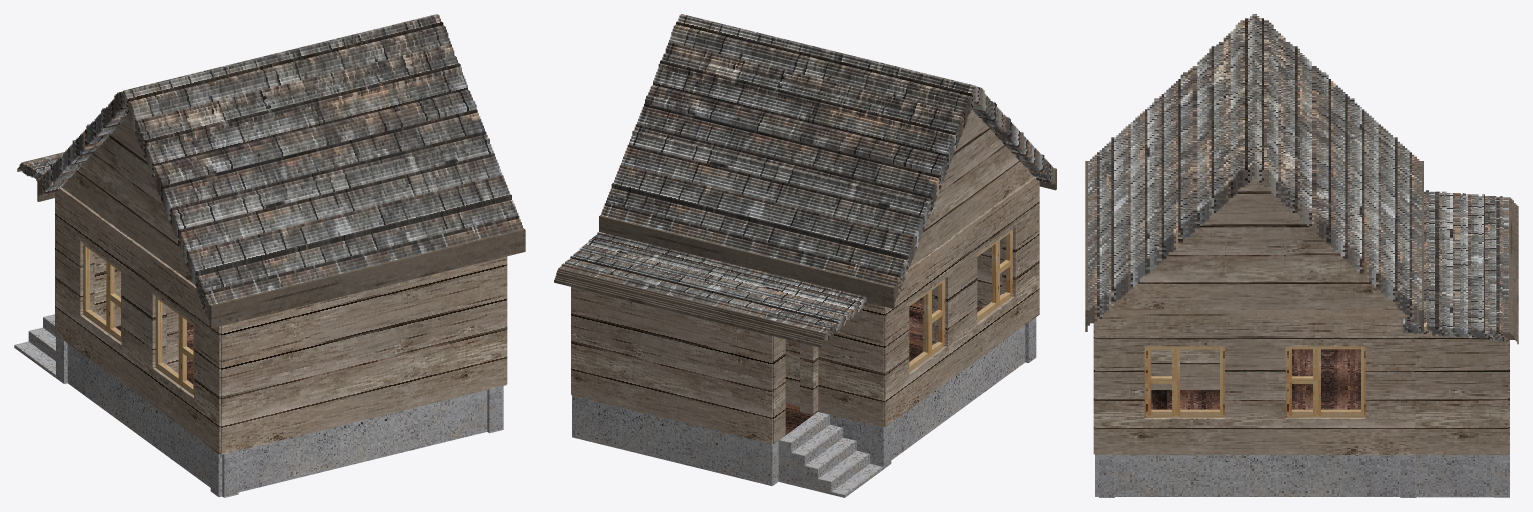
File: voxel_country_house.glb
3 renders of one model, left to right at view 1: azimuth 30°, elevation 25°; view 2: azimuth 150°, elevation 25°; view 3: azimuth 270°, elevation 25°, orthographic. The views are drawn at different scales.
Parts seen in each view (by area): view 1: -_129_House1Crovl91_0, doski1, Matrix002_House1WallWindows_0, Matrix_005_House1Funtdament_0, Matrix_2_House1Crov1_0, Matrix_4_House1Funtdament_0, -_128_House1Crovl91_0, Matrix_010_House1Window_0, Matrix_9_House1Window_0, Matrix_17_House1Lestnica_0, doski1_1, Matrix_006_House1Funtdament_0 (+2 smaller); view 2: -_128_House1Crovl91_0, Matrix_14_House1Wall3_0, Matrix002_House1WallWindows_0, 129_House1Crovl92_0, Fundament1, doski1_1, Matrix_2_House1Crov1_0, Matrix_17_House1Lestnica_0, Matrix_4_House1Funtdament_0, -_129_House1Crovl91_0, _3_House1WallDoor2_0, Matrix_5_House1Funtdament2_0 (+4 smaller); view 3: Matrix001_House1WallWindows_0, -_129_House1Crovl91_0, -_128_House1Crovl91_0, Matrix_013_House1Crov1_0, 129_House1Crovl92_0, Matrix_006_House1Funtdament_0, _1_House1Wall2_0, Matrix_8_House1Pol_0, Fundament2, Matrix_012_House1Window_0, Matrix_011_House1Window_0, _5_House1Wall4_material_0 (+3 smaller).
Boxes of the visible parts, x1,y1,x2,y2 form: -_129_House1Crovl91_0: (124,15,525,328); doski1: (221,256,506,454); Matrix002_House1WallWindows_0: (55,187,220,454); Matrix_005_House1Funtdament_0: (210,390,487,497); Matrix_2_House1Crov1_0: (61,116,195,284); Matrix_4_House1Funtdament_0: (67,344,238,497); -_128_House1Crovl91_0: (37,14,438,201); Matrix_010_House1Window_0: (155,296,193,395); Matrix_9_House1Window_0: (83,243,121,342); Matrix_17_House1Lestnica_0: (14,314,55,377); doski1_1: (94,253,120,326); Matrix_006_House1Funtdament_0: (487,386,503,433); -_128_House1Crovl91_0: (599,15,975,308); Matrix_14_House1Wall3_0: (571,287,772,443); Matrix002_House1WallWindows_0: (884,177,1039,427); 129_House1Crovl92_0: (554,232,868,347); Fundament1: (572,395,778,485); doski1_1: (785,303,883,427); Matrix_2_House1Crov1_0: (908,110,1033,267); Matrix_17_House1Lestnica_0: (778,412,883,497); Matrix_4_House1Funtdament_0: (891,325,1025,459); -_129_House1Crovl91_0: (681,14,1056,190); _3_House1WallDoor2_0: (772,336,818,443); Matrix_5_House1Funtdament2_0: (818,411,891,469); Matrix001_House1WallWindows_0: (1095,310,1415,454); -_129_House1Crovl91_0: (1085,14,1254,331); -_128_House1Crovl91_0: (1254,14,1423,331); Matrix_013_House1Crov1_0: (1109,178,1399,309); 129_House1Crovl92_0: (1403,190,1518,344); Matrix_006_House1Funtdament_0: (1095,455,1400,496); _1_House1Wall2_0: (1415,332,1508,454); Matrix_8_House1Pol_0: (1151,349,1360,409); Fundament2: (1416,455,1493,497); Matrix_012_House1Window_0: (1144,346,1224,417); Matrix_011_House1Window_0: (1285,346,1365,417); _5_House1Wall4_material_0: (1151,349,1219,389).
Size of the model in its own units: 221 by 236 by 271.
Materials: 20 (20 with a texture image).
